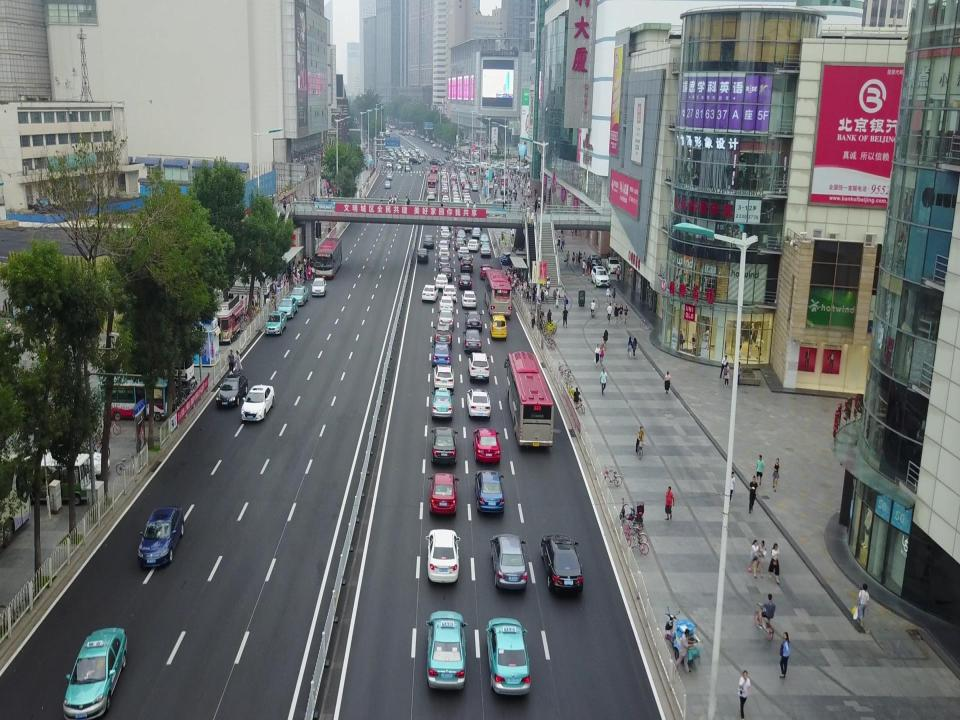bus: (503, 351, 555, 449), (15, 451, 95, 505), (98, 372, 174, 421), (312, 234, 342, 280), (484, 269, 511, 320)
car: (63, 624, 128, 720), (484, 615, 532, 697), (424, 609, 468, 691), (25, 442, 111, 481), (137, 506, 186, 570), (538, 532, 584, 595), (488, 532, 528, 592), (424, 527, 462, 583), (474, 468, 506, 516), (239, 382, 275, 424), (428, 471, 460, 517), (216, 371, 248, 410), (471, 426, 501, 465), (430, 425, 458, 466), (429, 387, 455, 421), (465, 388, 491, 420), (468, 352, 491, 384), (263, 310, 287, 338), (276, 294, 299, 318), (433, 363, 455, 388), (433, 321, 453, 348), (432, 342, 452, 368), (462, 328, 482, 354), (290, 282, 310, 306), (590, 264, 610, 288), (464, 309, 483, 330), (460, 289, 478, 310), (437, 309, 455, 330), (310, 276, 327, 298), (587, 253, 603, 274), (422, 283, 438, 303), (438, 295, 454, 315), (441, 284, 457, 303), (457, 271, 473, 290), (606, 256, 622, 273), (460, 255, 474, 274), (439, 265, 453, 282), (500, 252, 518, 265), (479, 264, 493, 280), (438, 255, 452, 271), (416, 247, 430, 262), (435, 274, 448, 290), (457, 246, 470, 261), (467, 238, 480, 253), (423, 234, 435, 249), (438, 246, 450, 261), (454, 236, 466, 251), (480, 242, 491, 258), (440, 233, 451, 249), (437, 239, 449, 253), (480, 232, 490, 246), (457, 229, 467, 242), (441, 229, 451, 241), (472, 226, 481, 239)
van: (489, 314, 507, 340)
